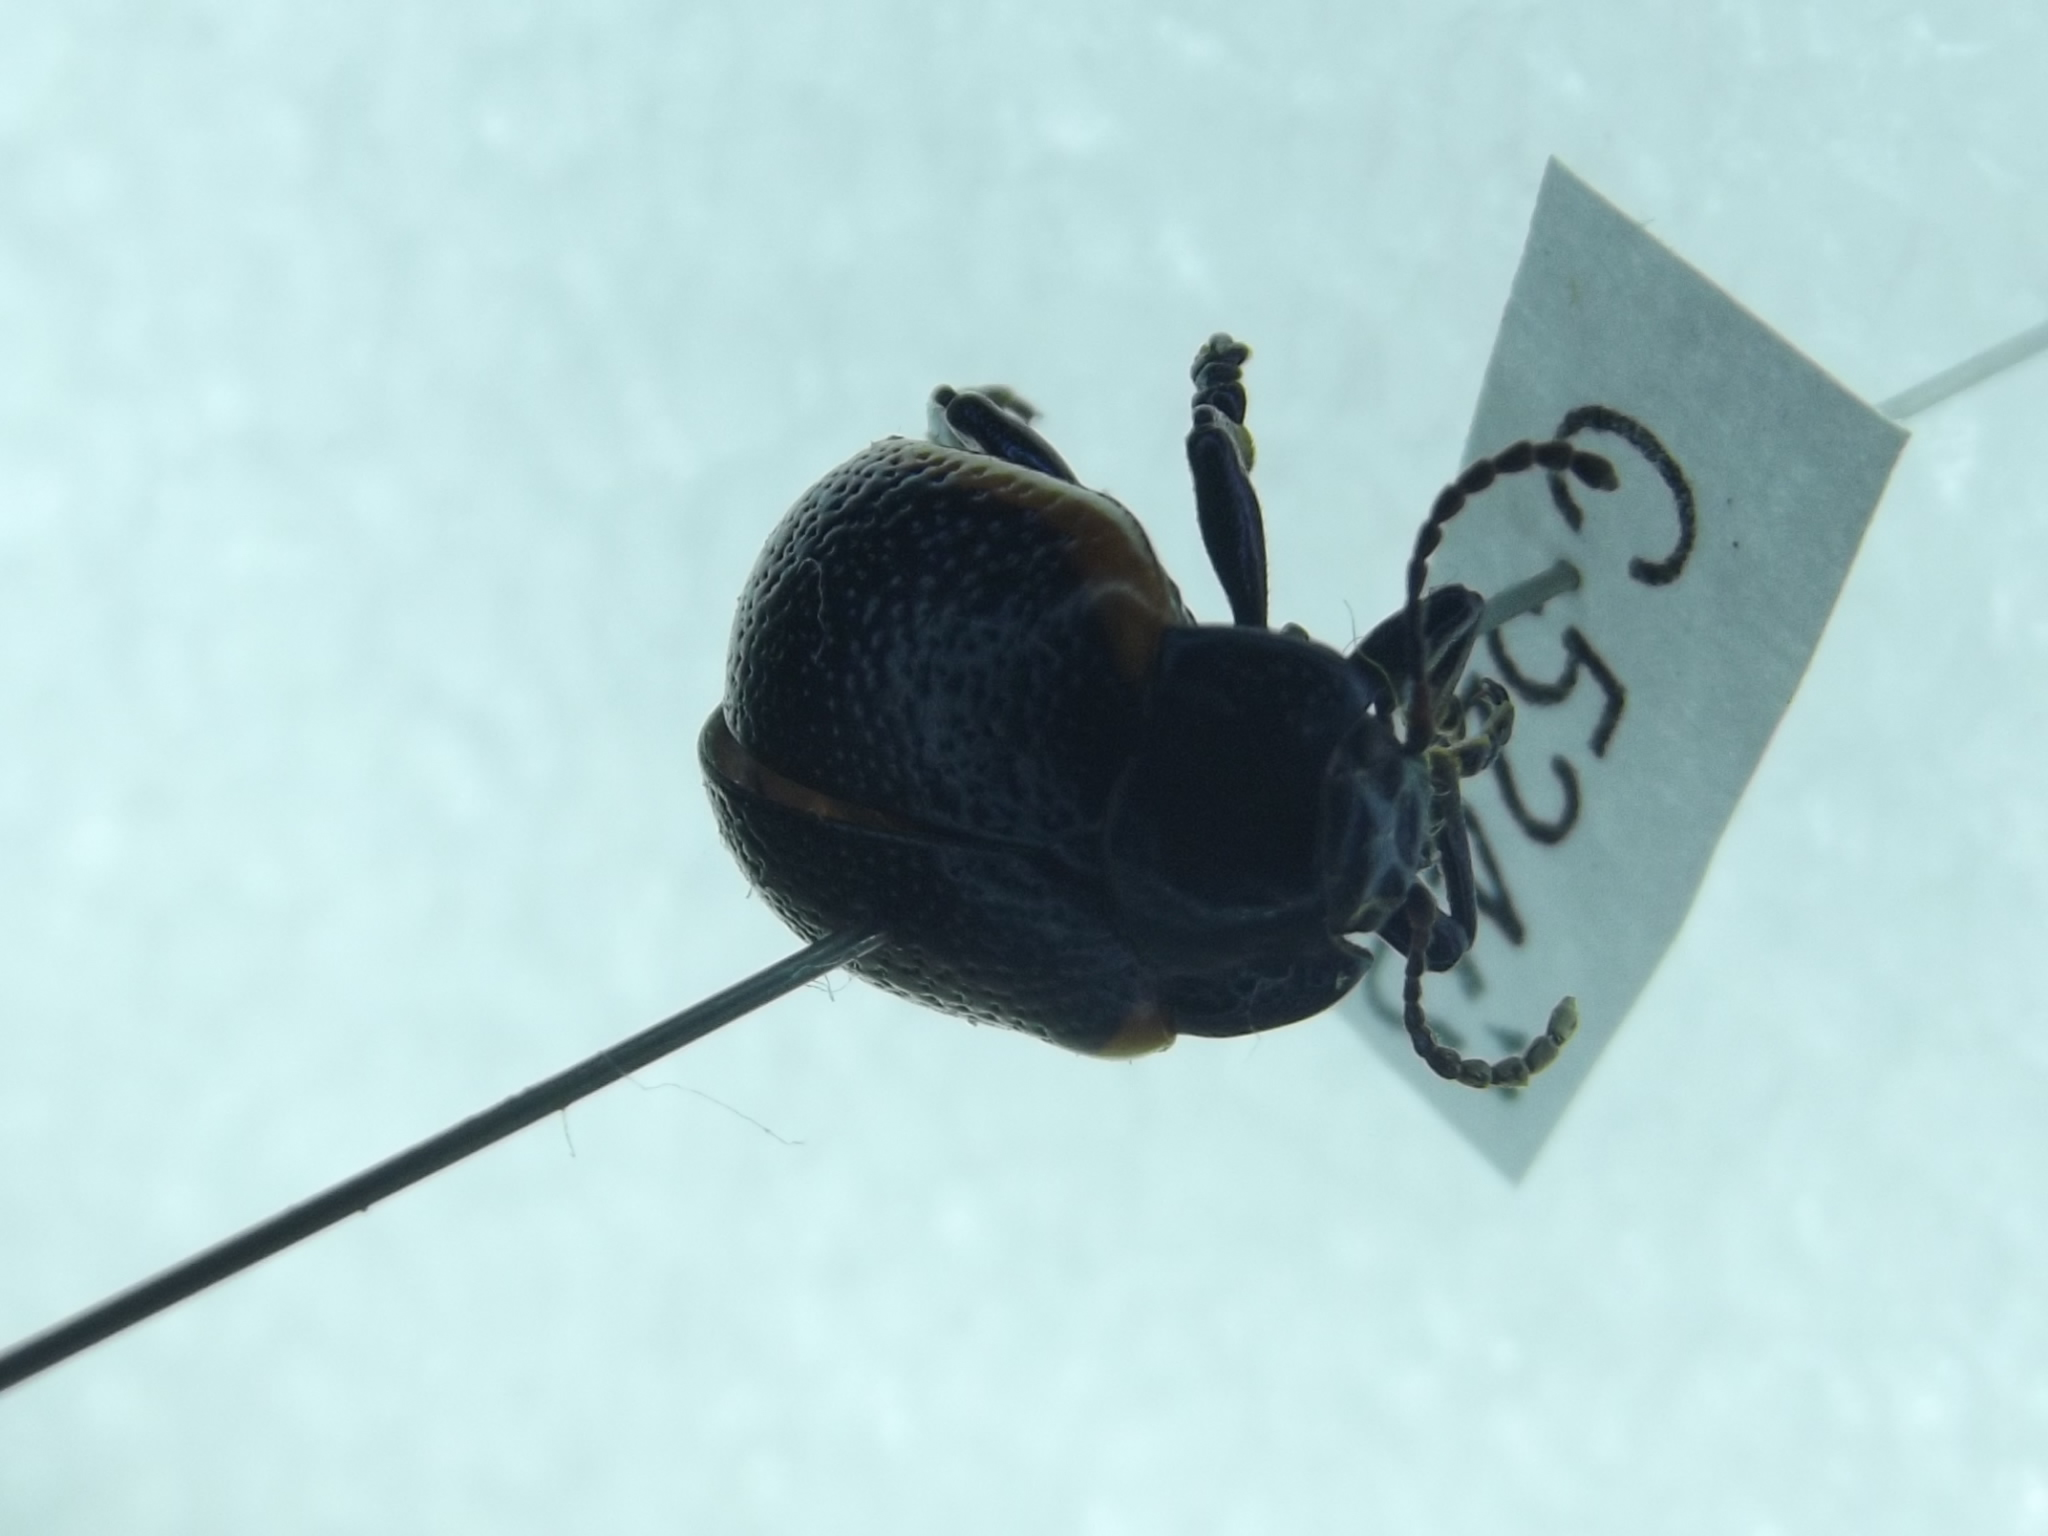Chrysolina_gypsophila: (684, 295, 1637, 1096)
